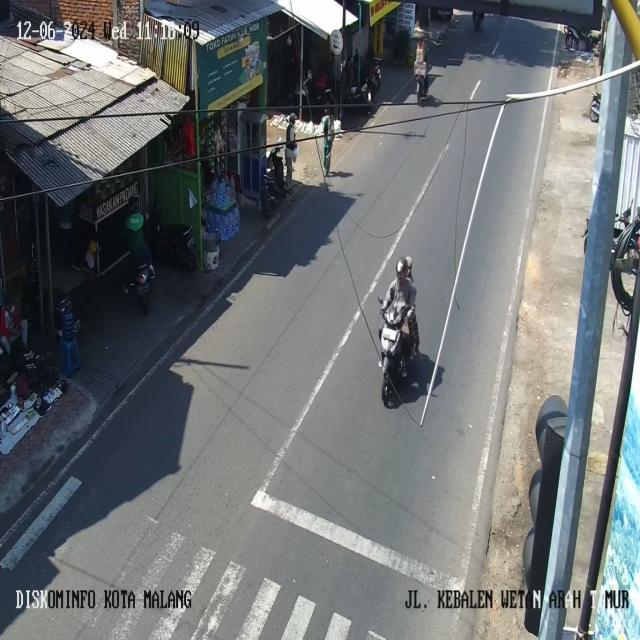Helmet: (396, 258, 408, 274)
